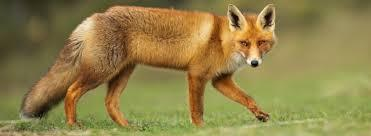fox: (28, 2, 276, 130)
